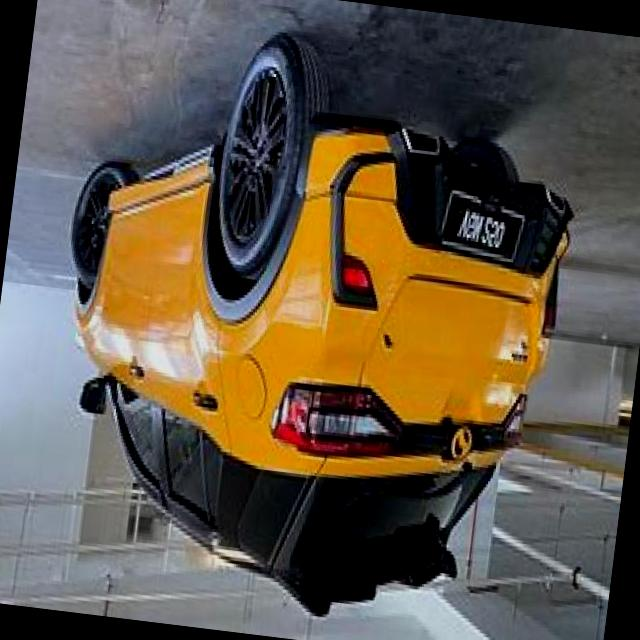PeroduaAtiva: (24, 8, 593, 640)
